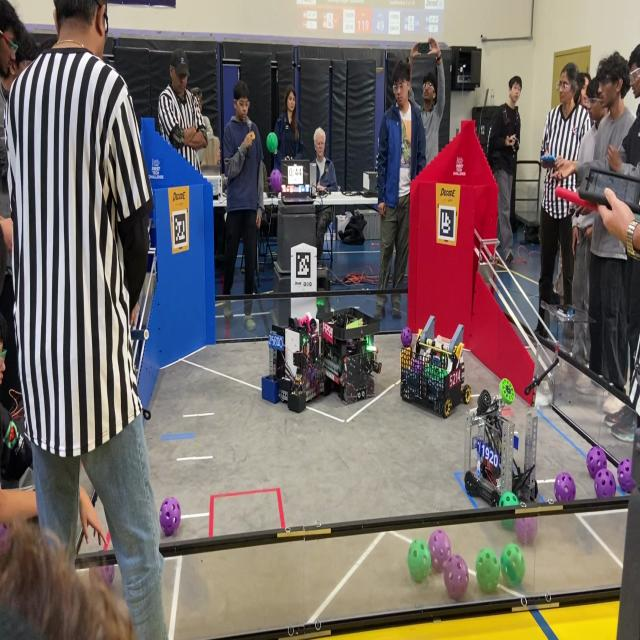artifact_green: (475, 548, 501, 593), (501, 544, 525, 586), (408, 540, 431, 583), (500, 379, 514, 404), (478, 390, 492, 414), (499, 492, 519, 507), (267, 132, 278, 153), (440, 354, 448, 369)
artifact_purple: (444, 555, 468, 599), (429, 530, 451, 573), (160, 497, 180, 536), (587, 446, 608, 478), (617, 459, 635, 493), (595, 469, 616, 498), (554, 472, 575, 501), (514, 518, 537, 544), (90, 565, 114, 586), (100, 565, 115, 585), (270, 169, 282, 193), (401, 327, 412, 347), (0, 524, 8, 551), (411, 358, 424, 374), (0, 524, 8, 539)
